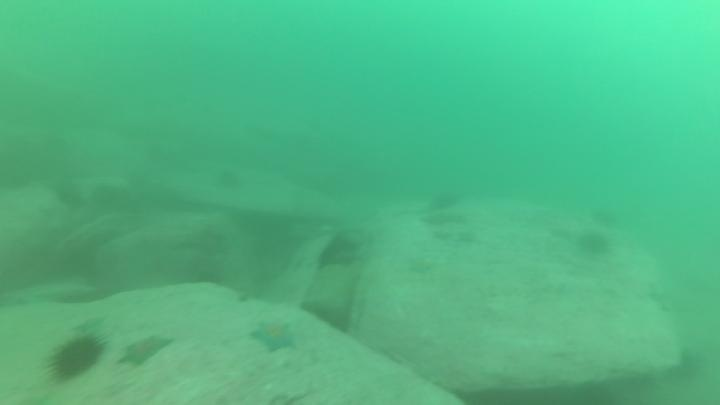echinus: (44, 329, 108, 384), (574, 228, 613, 260), (425, 187, 464, 215), (212, 165, 246, 195), (54, 180, 86, 209), (589, 203, 621, 230)
starfish: (115, 331, 177, 371), (247, 316, 300, 356), (402, 252, 440, 279), (70, 313, 109, 334)
